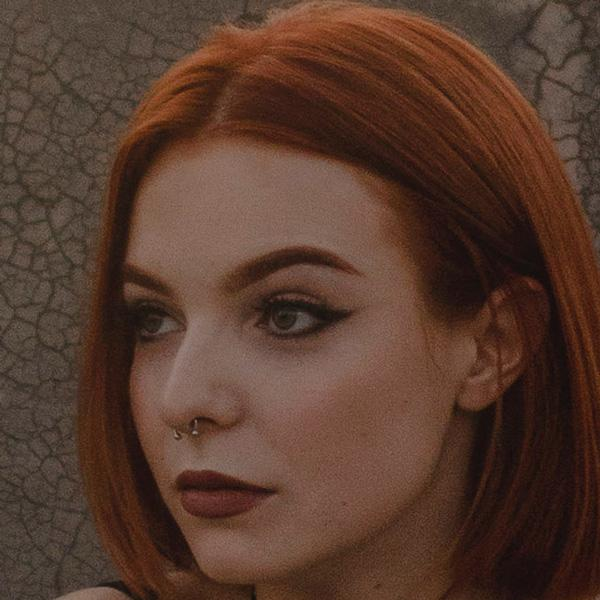Eyes: (241, 285, 347, 348), (118, 291, 194, 351)
